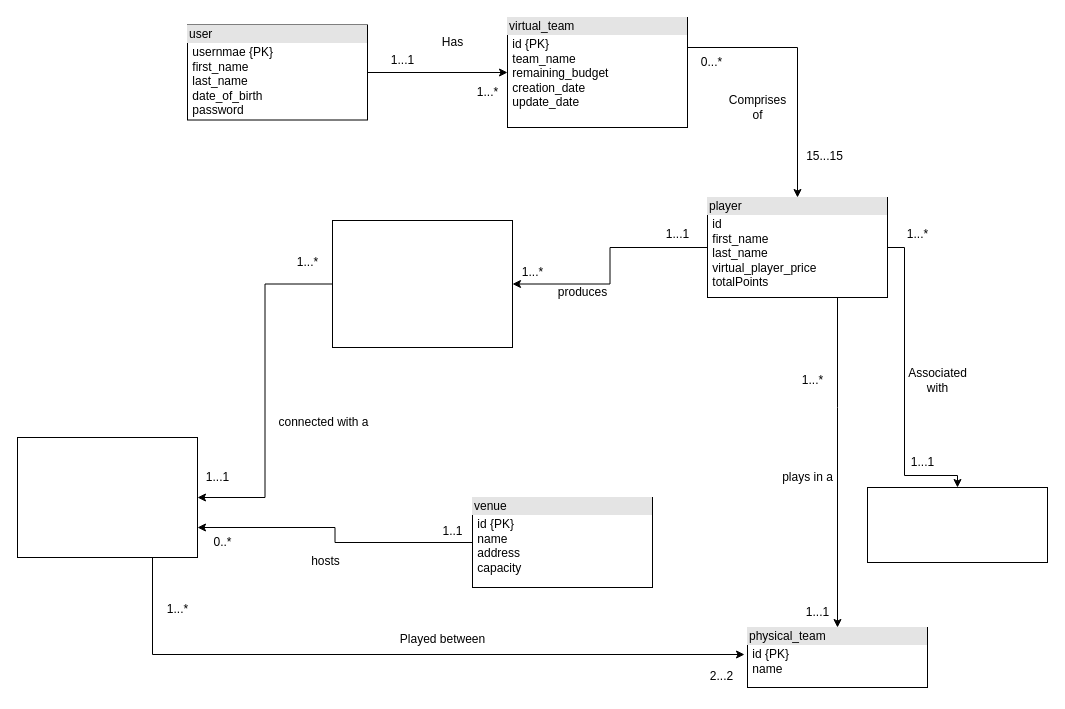
Image size: 1065x709. Some labels were removed from this diagram. The shapes that lost their labels are listed below. From the top down, each one's box as (x1, y1, x2, y2) in pixels, then its label:
(332, 220, 512, 348): match_stats id {PK} minutes_played goals assists yellow_cards red_cards saves
(16, 436, 198, 558): fixture id {PK} match_date home_team_id away_team_id match_week
(866, 486, 1048, 562): player_position id {PK} name
